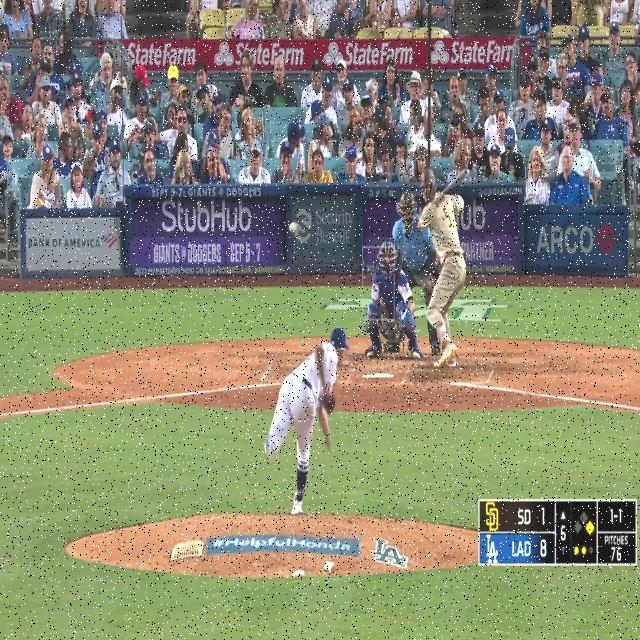baseball: (289, 222, 297, 232)
